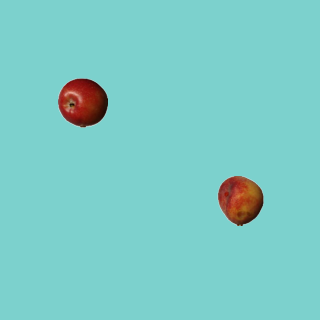Apple Braeburn: (57, 77, 107, 127)
Peach: (215, 175, 265, 225)
